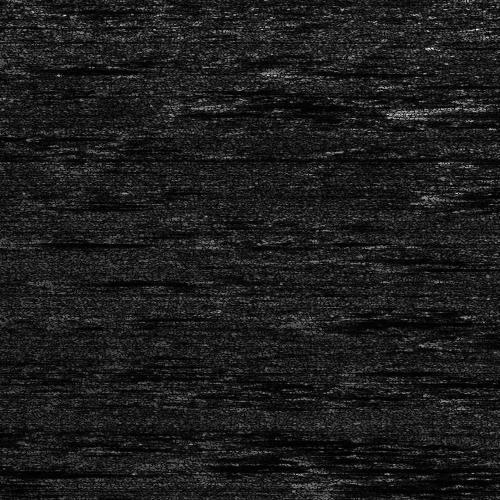object: (137, 453, 262, 476), (370, 100, 485, 119), (294, 477, 377, 500), (300, 378, 425, 389), (0, 276, 111, 287), (261, 63, 334, 74), (406, 187, 459, 202), (435, 180, 500, 189), (282, 319, 345, 326), (5, 65, 58, 72), (315, 476, 388, 481), (309, 256, 372, 261), (222, 439, 275, 444), (0, 239, 47, 244), (206, 453, 247, 456), (314, 465, 335, 470)
shadow: (199, 453, 469, 476), (335, 477, 500, 500), (298, 63, 481, 74), (363, 378, 500, 389), (428, 100, 500, 119), (54, 276, 170, 287), (0, 466, 112, 475), (433, 187, 500, 202), (313, 319, 450, 326), (32, 65, 159, 72), (325, 465, 484, 470), (352, 476, 500, 481), (249, 439, 376, 444), (226, 453, 426, 456), (16, 239, 131, 244), (340, 256, 454, 261), (374, 370, 457, 371), (465, 341, 500, 342)
